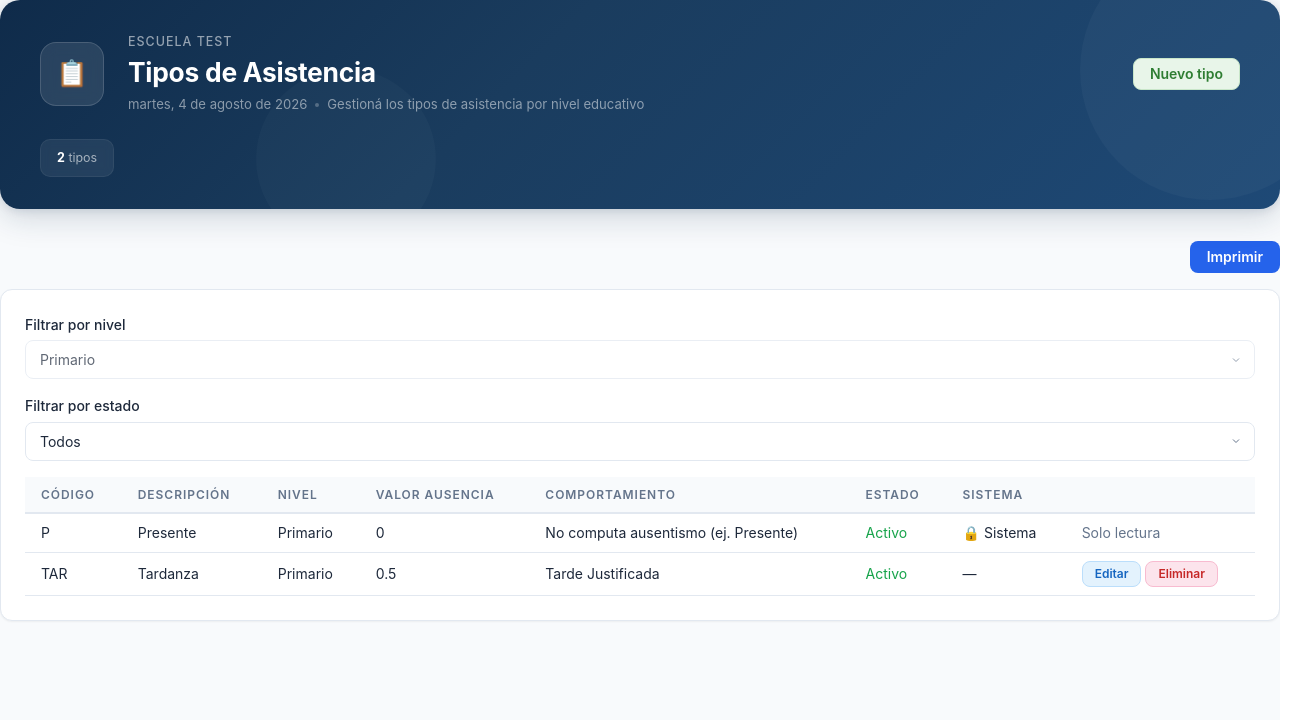
AttendanceTypesPage — level-scoped selector (non-ROOT) › 1 base level: create form level select is pre-set and disabled
Click the button "Nuevo tipo" at point(1186, 74), box [1133,58,1240,90]
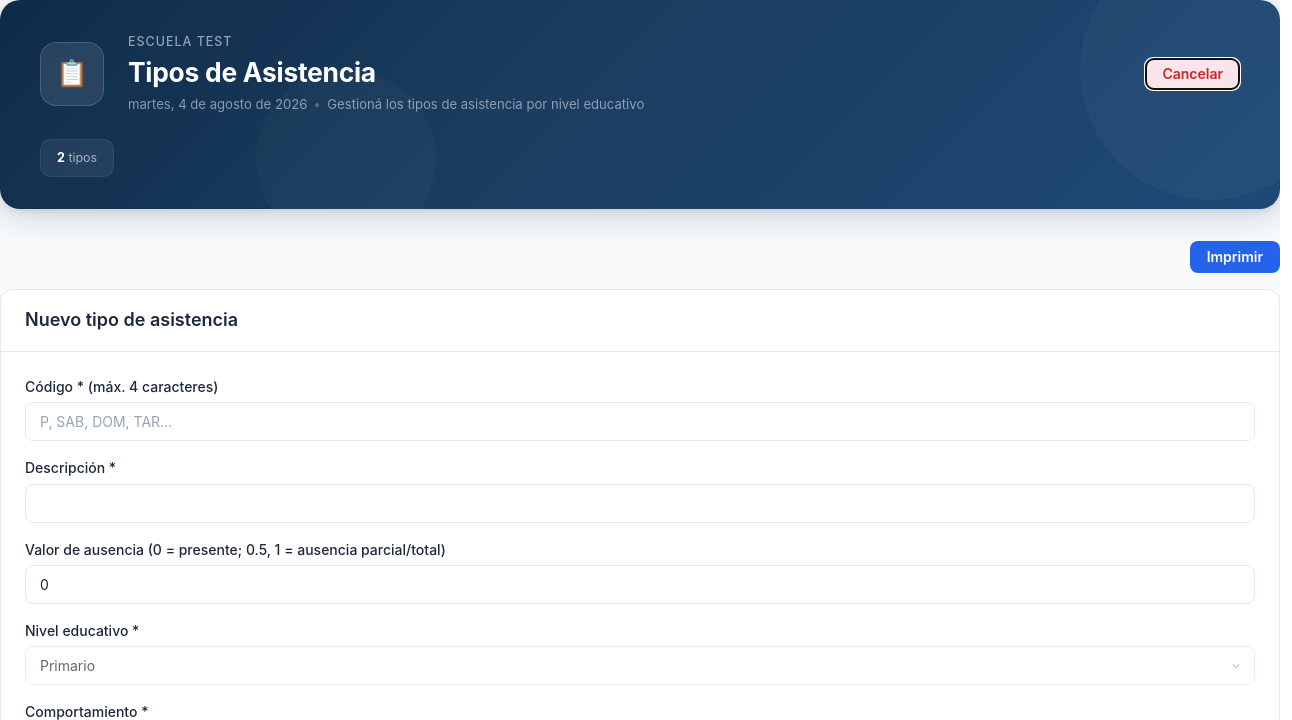
Expected: the dropdown labelled "Nivel educativo *" is disabled, [25,646,1255,685]
Expected: the dropdown labelled "Nivel educativo *" shows "Primario", [25,646,1255,685]
